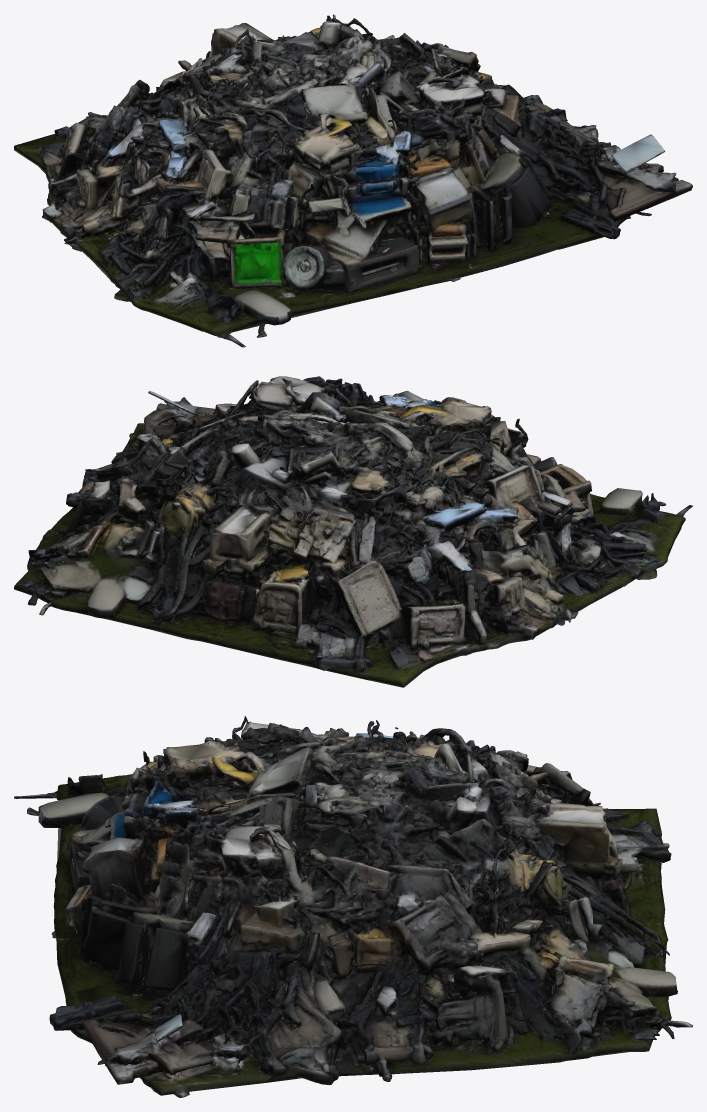
The model's file is ewaste_pile.glb.
The picture shows the model from 3 angles, top to bottom: view 1: azimuth 30°, elevation 25°; view 2: azimuth 150°, elevation 25°; view 3: azimuth 270°, elevation 25°; orthographic projection. The views are drawn at different scales.
Bounding box in the file's own units: 1.9 × 0.4555 × 1.66.
Materials: 1 (1 with a texture image).
